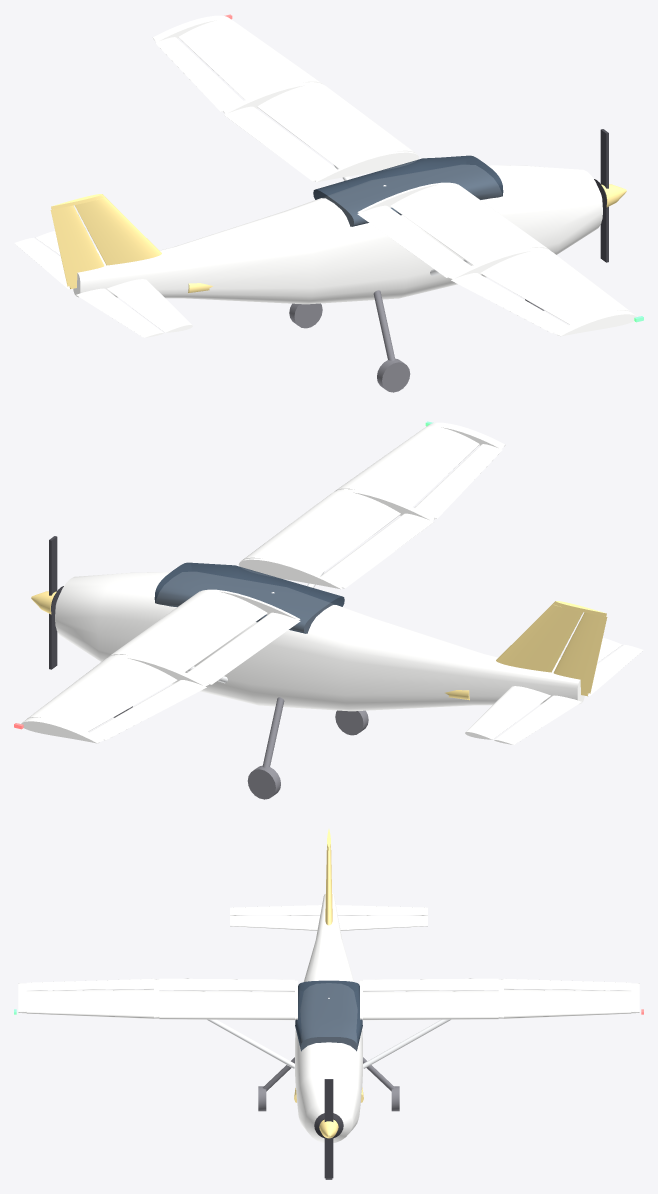
The model's file is trainer.glb.
3 views of the same model, one above another, from view 1: azimuth 30°, elevation 25°; view 2: azimuth 150°, elevation 25°; view 3: azimuth 270°, elevation 25° (orthographic). The views are drawn at different scales.
Visible parts, largest first — view 1: body, flapL, flapR, rudder, gear, aileronL, aileronR, elevatorR, elevatorL, prop; view 2: body, flapR, flapL, rudder, gear, aileronR, aileronL, elevatorL, elevatorR, prop; view 3: body, flapL, flapR, aileronL, aileronR, elevatorL, elevatorR, gear, prop.
Boxes of the visible parts, x1,y1,x2,y2 form: body: (35,14,643,336); flapL: (224,106,337,181); flapR: (357,205,470,277); rudder: (50,205,104,286); gear: (289,290,544,392); aileronL: (155,37,243,111); aileronR: (451,273,568,333); elevatorR: (76,288,163,337); elevatorL: (14,237,69,289); prop: (600,129,608,262); body: (14,421,622,743); flapR: (320,513,433,588); flapL: (187,612,300,684); rudder: (553,612,607,693); gear: (113,697,368,799); aileronR: (414,444,502,518); aileronL: (89,680,206,740); elevatorL: (494,695,581,744); elevatorR: (588,644,643,696); prop: (49,536,57,669); body: (14,829,643,1142); flapL: (363,978,498,991); flapR: (159,978,294,991); aileronL: (504,978,631,990); aileronR: (26,978,153,990); elevatorL: (336,905,427,915); elevatorR: (230,905,321,915); gear: (258,1057,399,1179); prop: (324,1079,333,1178).
Size of the model in its own units: 8.96 by 3.34 by 11.15.
